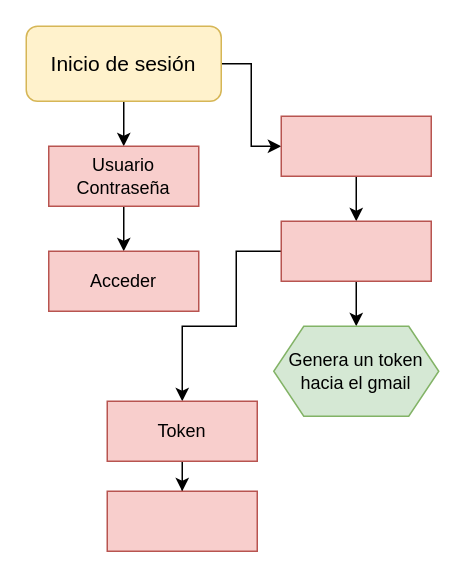
Image size: 465x578. Some labels were removed from this diagram. The centre of each missing label's shape, as x and y in pixels:
"Gmail" goes at point (355, 250).
"Nueva contraseña" goes at point (181, 520).
"¿Se olvido la contraseña?" goes at point (355, 145).
